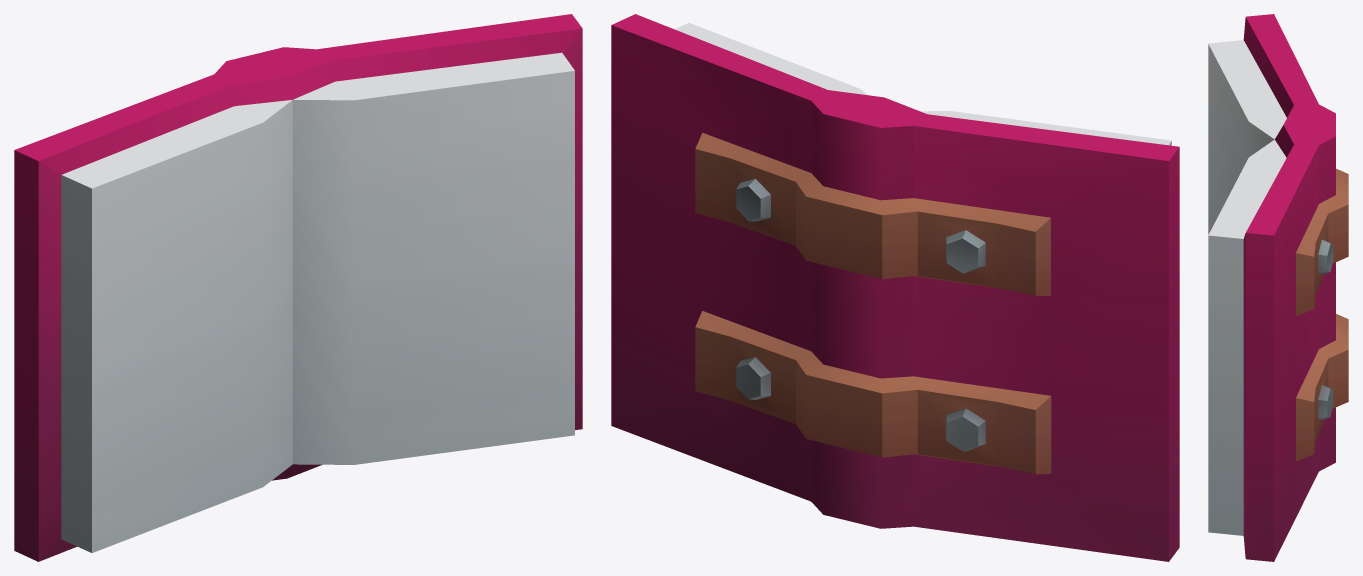
The model's file is spellbook_open.glb.
The picture shows the model from 3 angles, left to right: view 1: azimuth 30°, elevation 25°; view 2: azimuth 150°, elevation 25°; view 3: azimuth 270°, elevation 25°; orthographic projection. The views are drawn at different scales.
Visible parts, largest first — view 1: spellbook_open; view 2: spellbook_open; view 3: spellbook_open.
Boxes of the visible parts, x1=… form: spellbook_open: x1=14, y1=14, x2=582, y2=561; spellbook_open: x1=611, y1=14, x2=1179, y2=561; spellbook_open: x1=1208, y1=14, x2=1348, y2=561.
Bounding box in the file's own units: 0.8282 × 0.5688 × 0.2219.
Materials: 1 (1 with a texture image).
